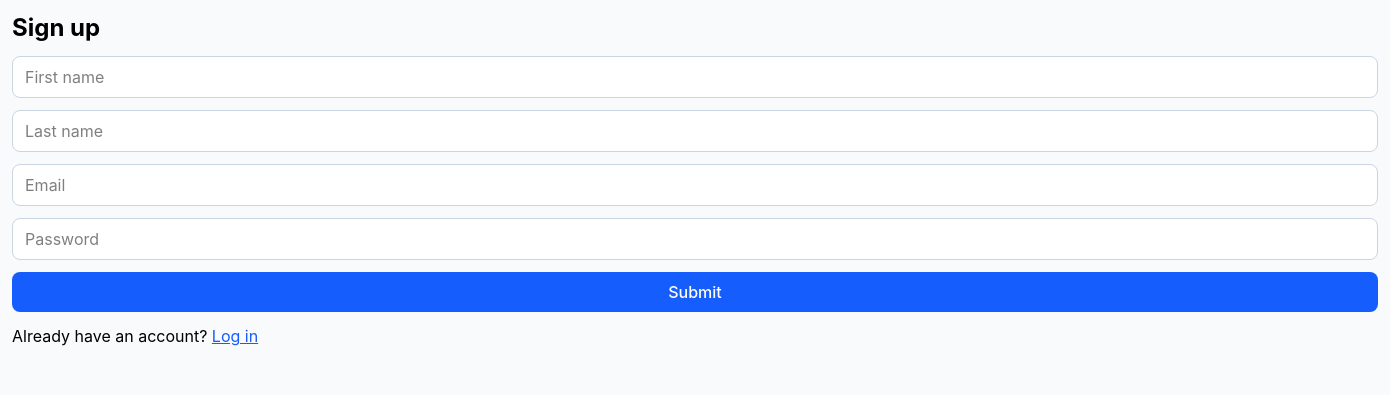
Test: email is already taken
Type "test@example.com" into the field with placeholder "Email".
click(695, 185); type("test@example.com")  # box [12, 164, 1378, 206]
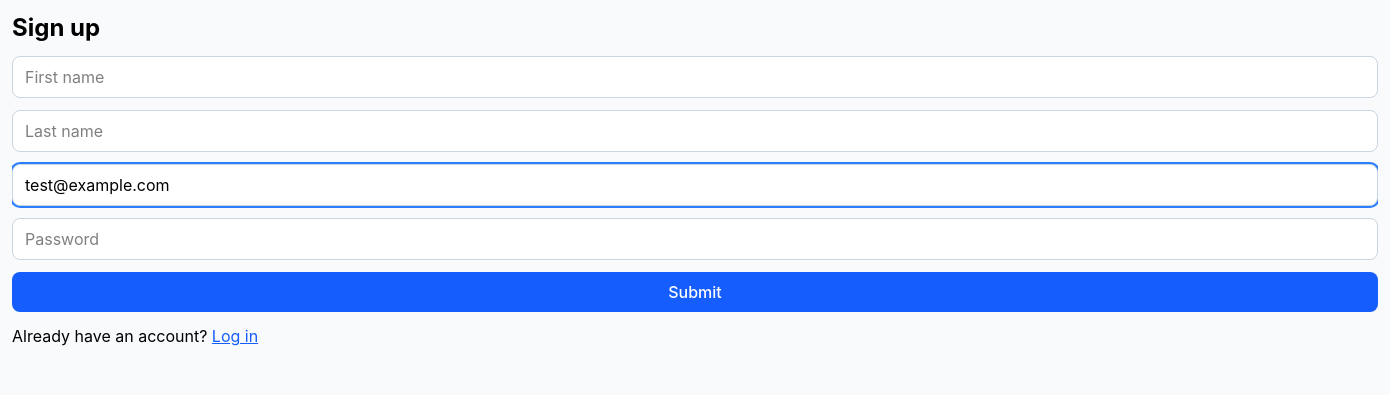
Type "Kolya" into the field with placeholder "First name".
click(695, 77); type("Kolya")  # box [12, 56, 1378, 98]
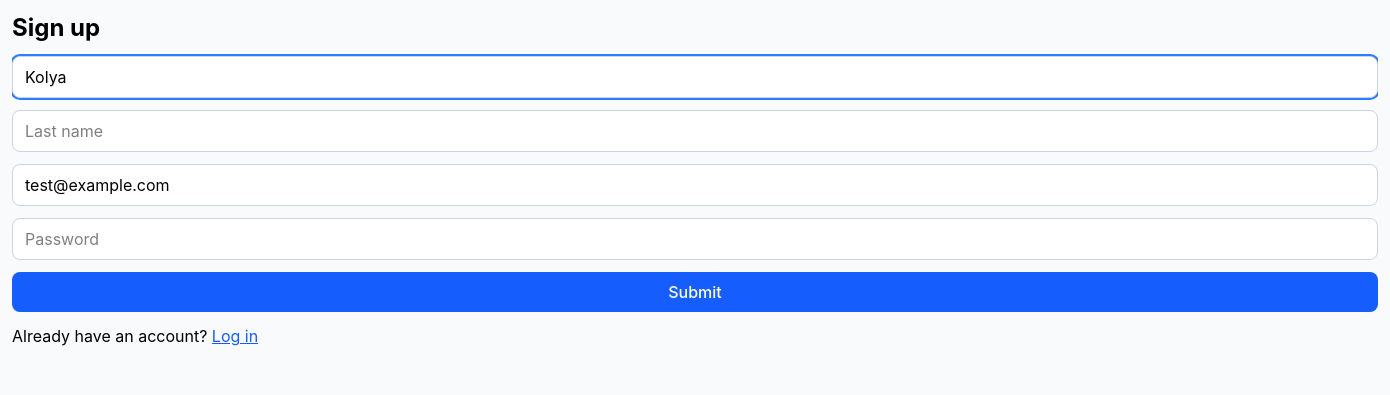
Type "Examplovich" into the field with placeholder "Last name".
click(695, 131); type("Examplovich")  # box [12, 110, 1378, 152]
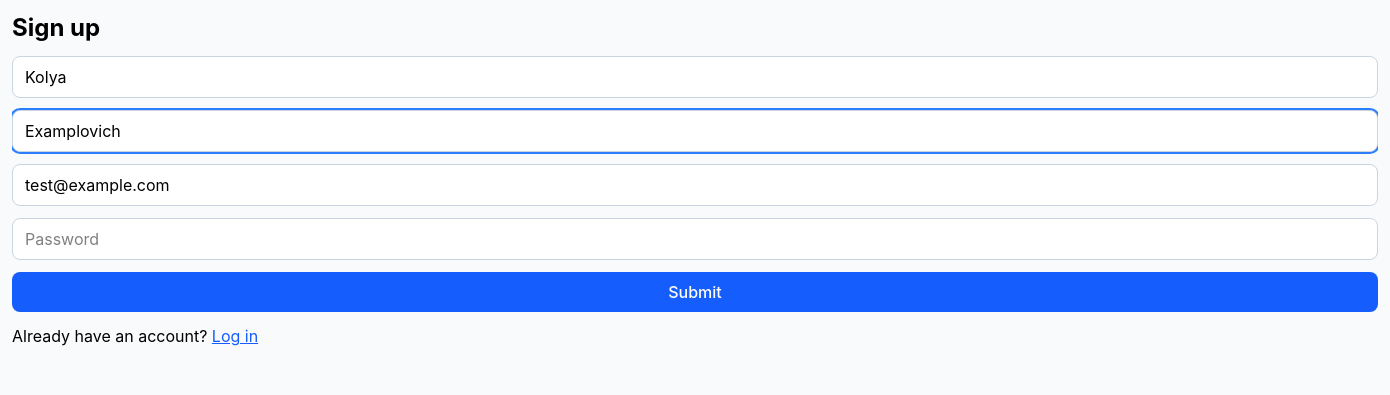
Type "password123" into the password field with placeholder "Password".
click(695, 239); type("password123")  # box [12, 218, 1378, 260]
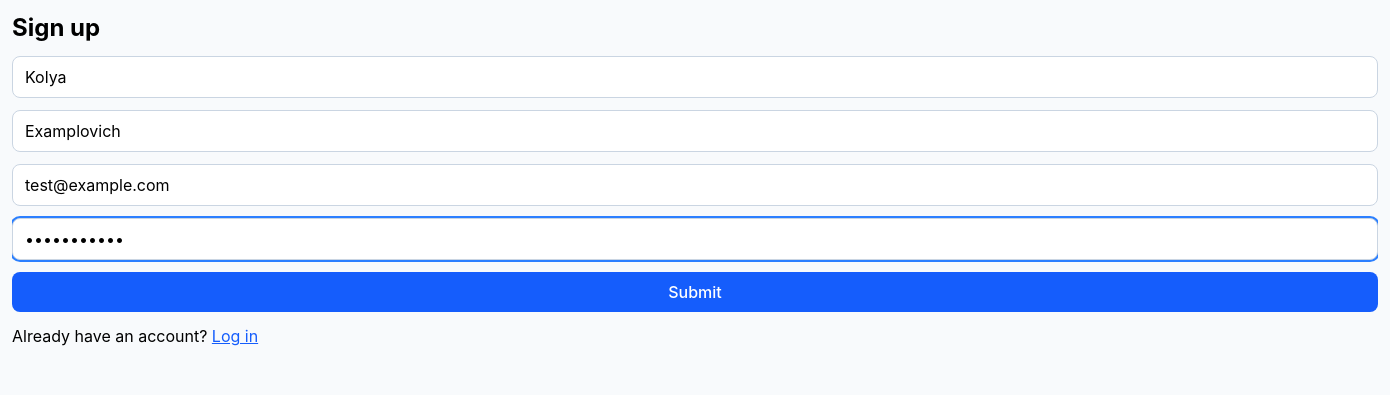
Click the button "Submit".
click(695, 292)  # box [12, 272, 1378, 312]
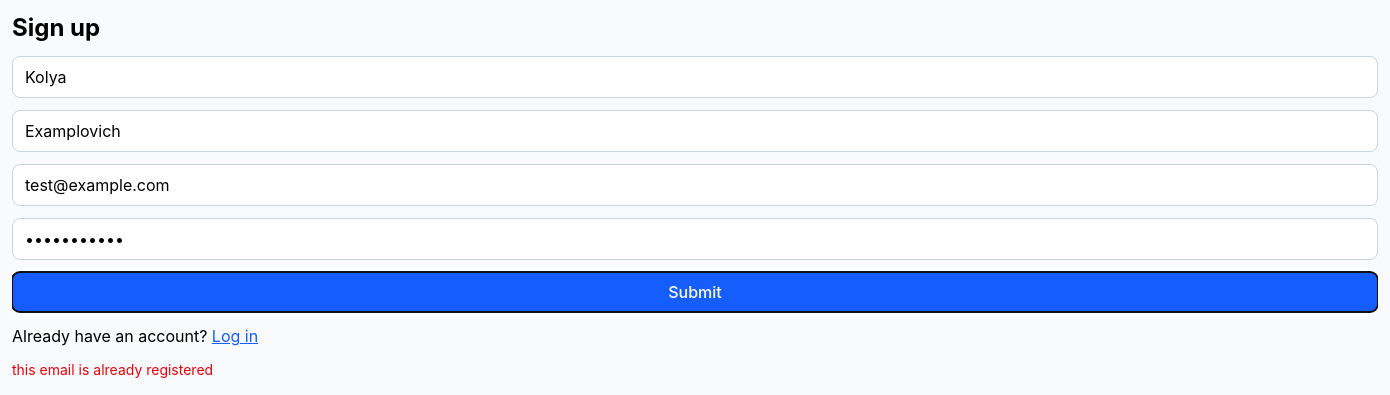
Expected: the heading "Sign up" is shown, [12, 13, 100, 42]
Expected: the text "this email is already registered" is shown, [12, 361, 213, 378]
